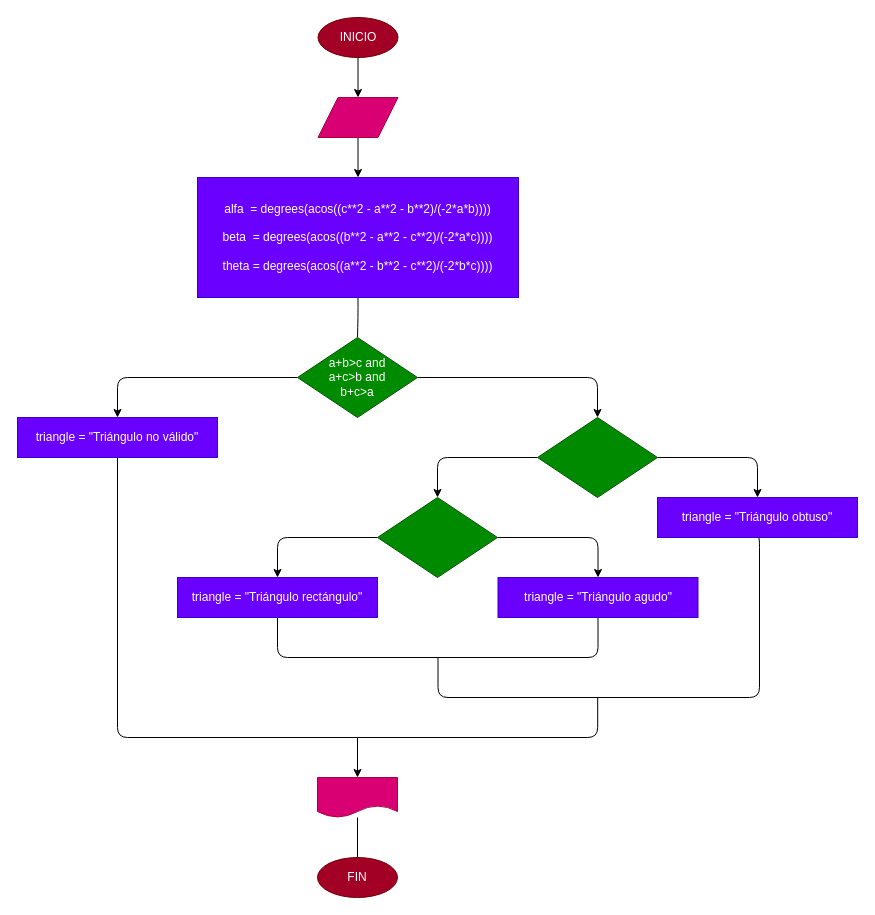
This 875x915 diagram has some shape labels left out. Each missing label, with the box of its shape:
a, b, c: (317, 96, 398, 138)
alfa < 90 and beta < 90 and theta < 90: (376, 496, 498, 578)
alfa > 90 or beta > 90 or theta > 90: (536, 416, 658, 498)
triangle: (316, 776, 398, 818)
